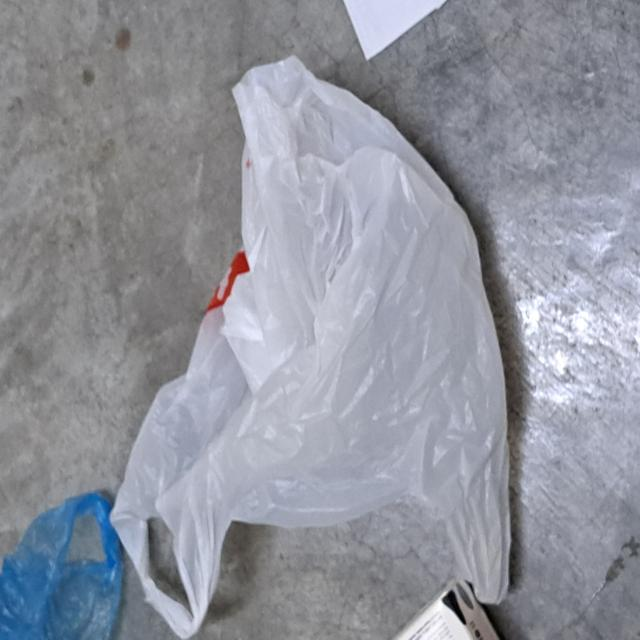plastic bag: (111, 57, 513, 640), (0, 491, 128, 639)
